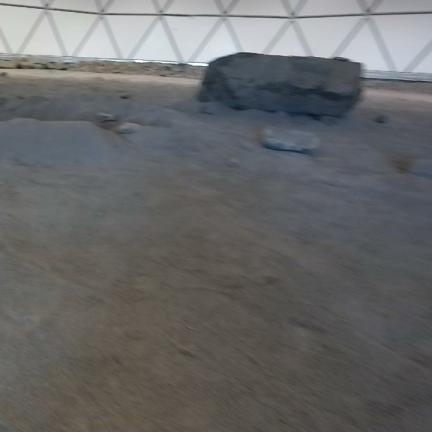Rock: (198, 52, 361, 117), (263, 129, 319, 153), (113, 122, 140, 133), (96, 113, 116, 122), (374, 115, 389, 123), (120, 94, 130, 99)
